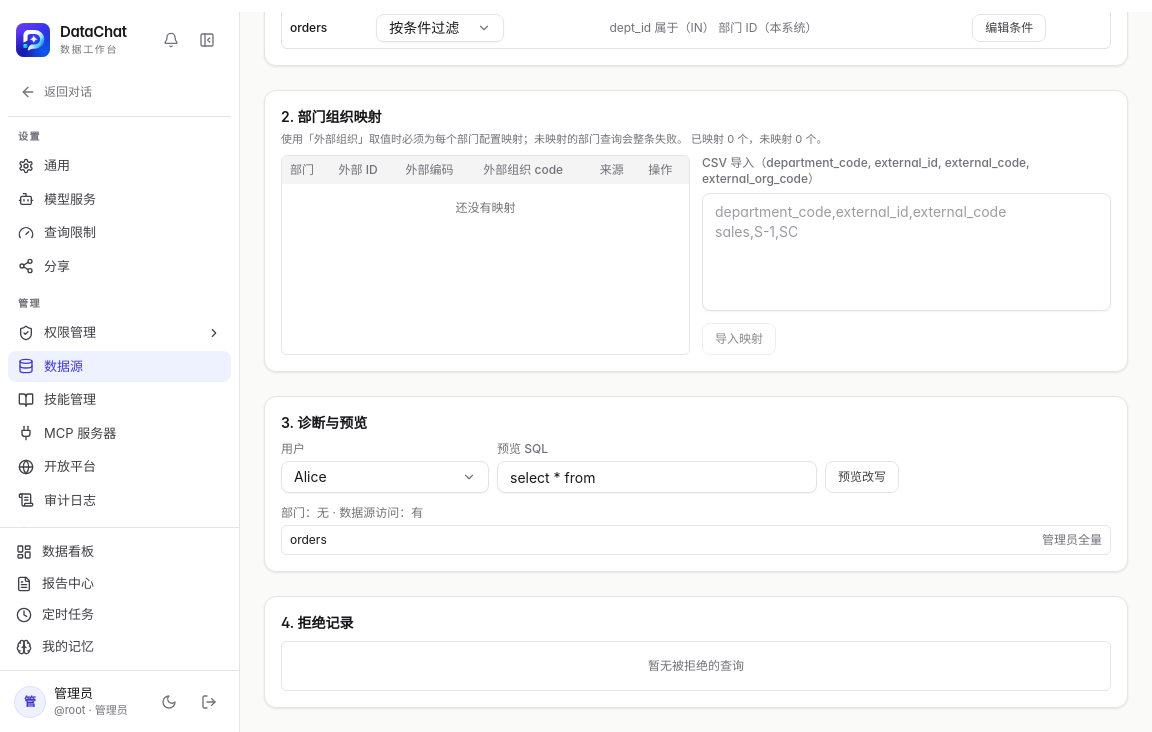
Test case: DatasourceScopePage › previews the rewritten SQL for the selected user
(page scrolled)
Replace the text in the field labelled "预览 SQL" with "select * from orders": (657, 477) [497,461,817,493]
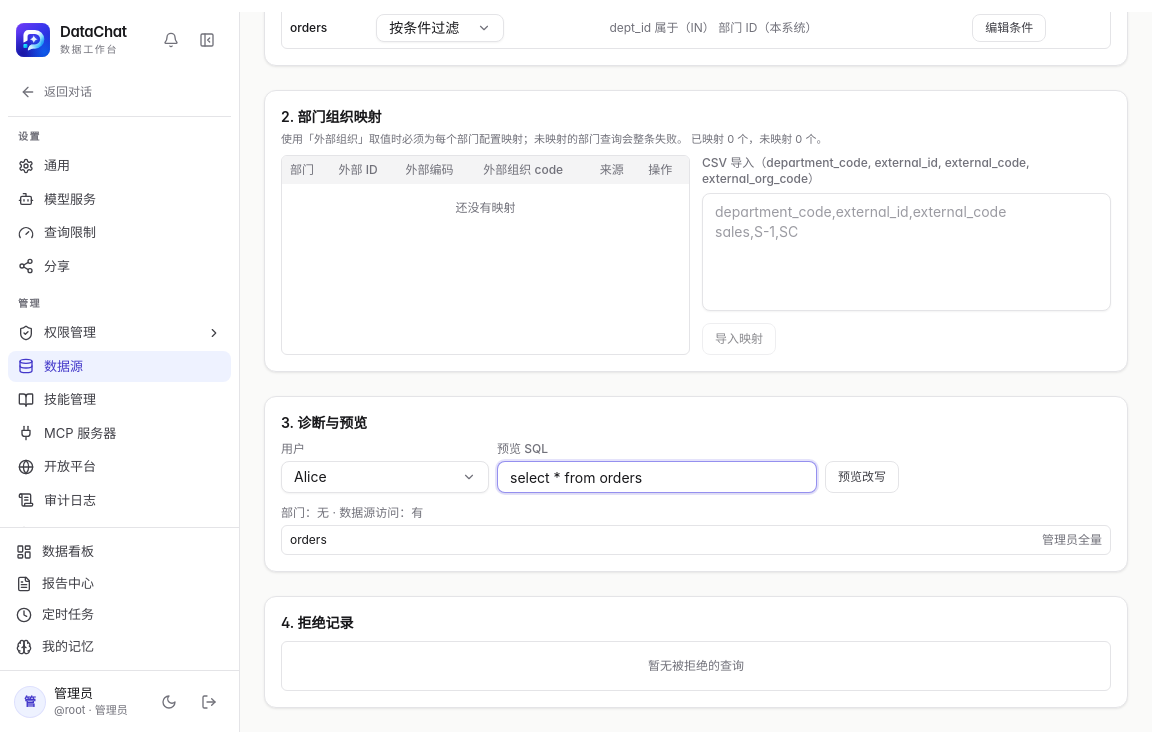
Click the button "预览改写": (862, 477) [825,461,899,493]
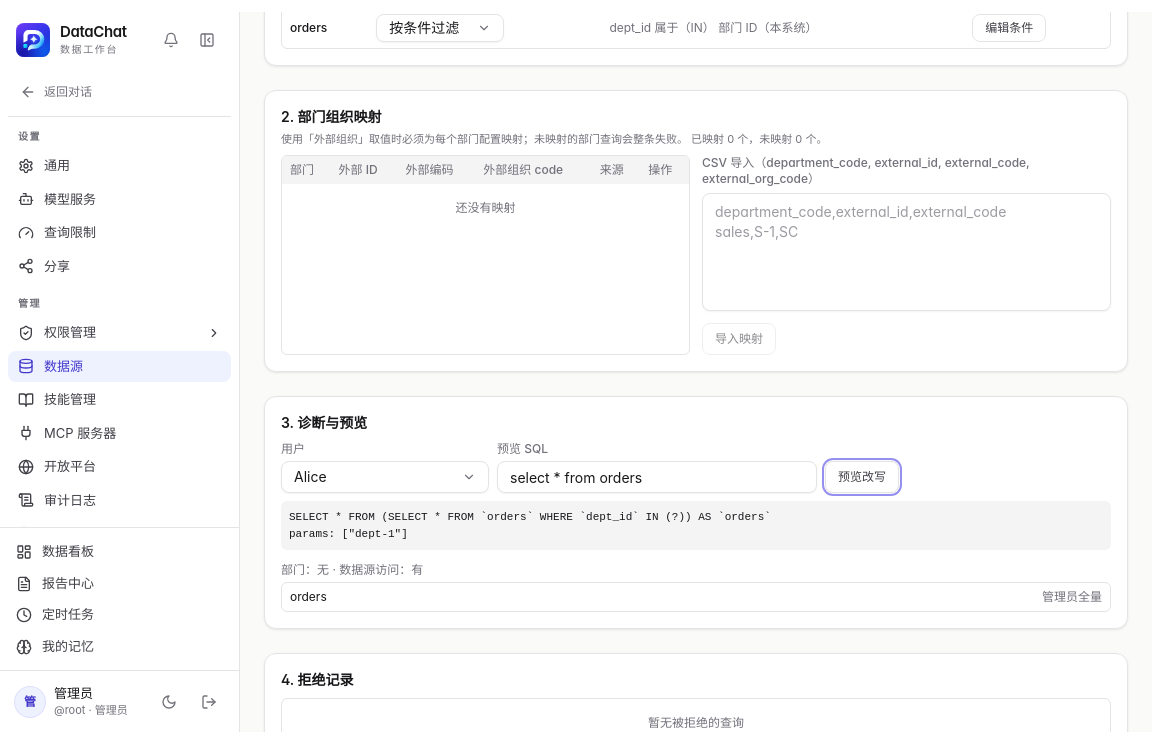
Check: the text "管理员全量" is shown, box [1042,589,1102,605]
Check: the text "SELECT * FROM (SELECT * FROM `orders`" is shown, box [289,511,771,523]
Check: the text "params: [\"dept-1\"]" is shown, box [281,501,1111,550]
